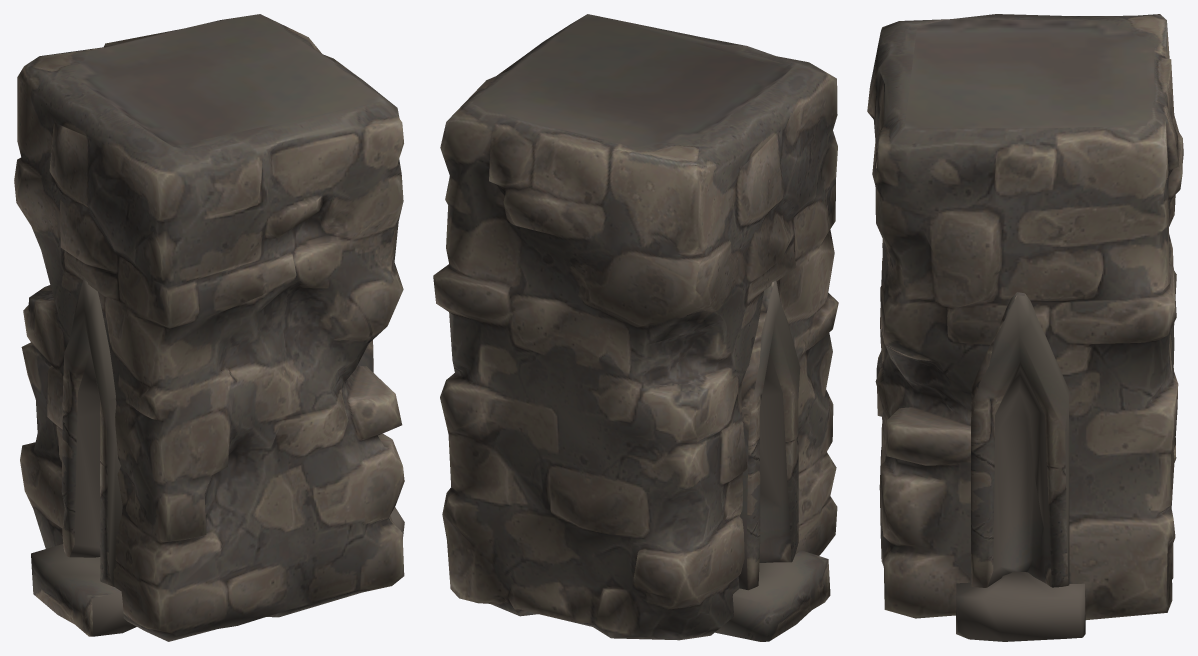
Rendered from Pillar_Alcove_A.fbx.
The picture shows the model from 3 angles, left to right: view 1: azimuth 30°, elevation 25°; view 2: azimuth 150°, elevation 25°; view 3: azimuth 270°, elevation 25°; orthographic projection.
Visible parts, largest first — view 1: Dn_HL_UND_Pillar_Alcove_A.001; view 2: Dn_HL_UND_Pillar_Alcove_A.001; view 3: Dn_HL_UND_Pillar_Alcove_A.001.
Part boxes in pixels (bbox=[...]): Dn_HL_UND_Pillar_Alcove_A.001: bbox=[14, 14, 404, 641]; Dn_HL_UND_Pillar_Alcove_A.001: bbox=[433, 14, 838, 641]; Dn_HL_UND_Pillar_Alcove_A.001: bbox=[867, 14, 1183, 641].
Bounding box in the file's own units: 4068 × 6174 × 3517.
